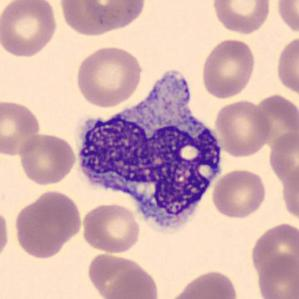Monocyte: (74, 66, 227, 239)
RBC: (12, 188, 83, 259), (73, 43, 145, 109), (199, 36, 258, 100), (213, 98, 273, 158), (0, 0, 60, 58), (16, 131, 77, 186), (80, 201, 141, 255), (248, 89, 299, 150), (210, 167, 268, 220), (248, 220, 298, 278), (0, 98, 43, 158), (57, 0, 120, 38), (210, 0, 274, 36), (80, 0, 148, 31), (254, 252, 298, 299), (173, 268, 239, 299), (101, 267, 162, 299), (266, 129, 298, 188), (274, 33, 298, 98), (281, 164, 299, 222), (274, 0, 298, 36), (0, 205, 11, 264), (165, 291, 211, 299)
